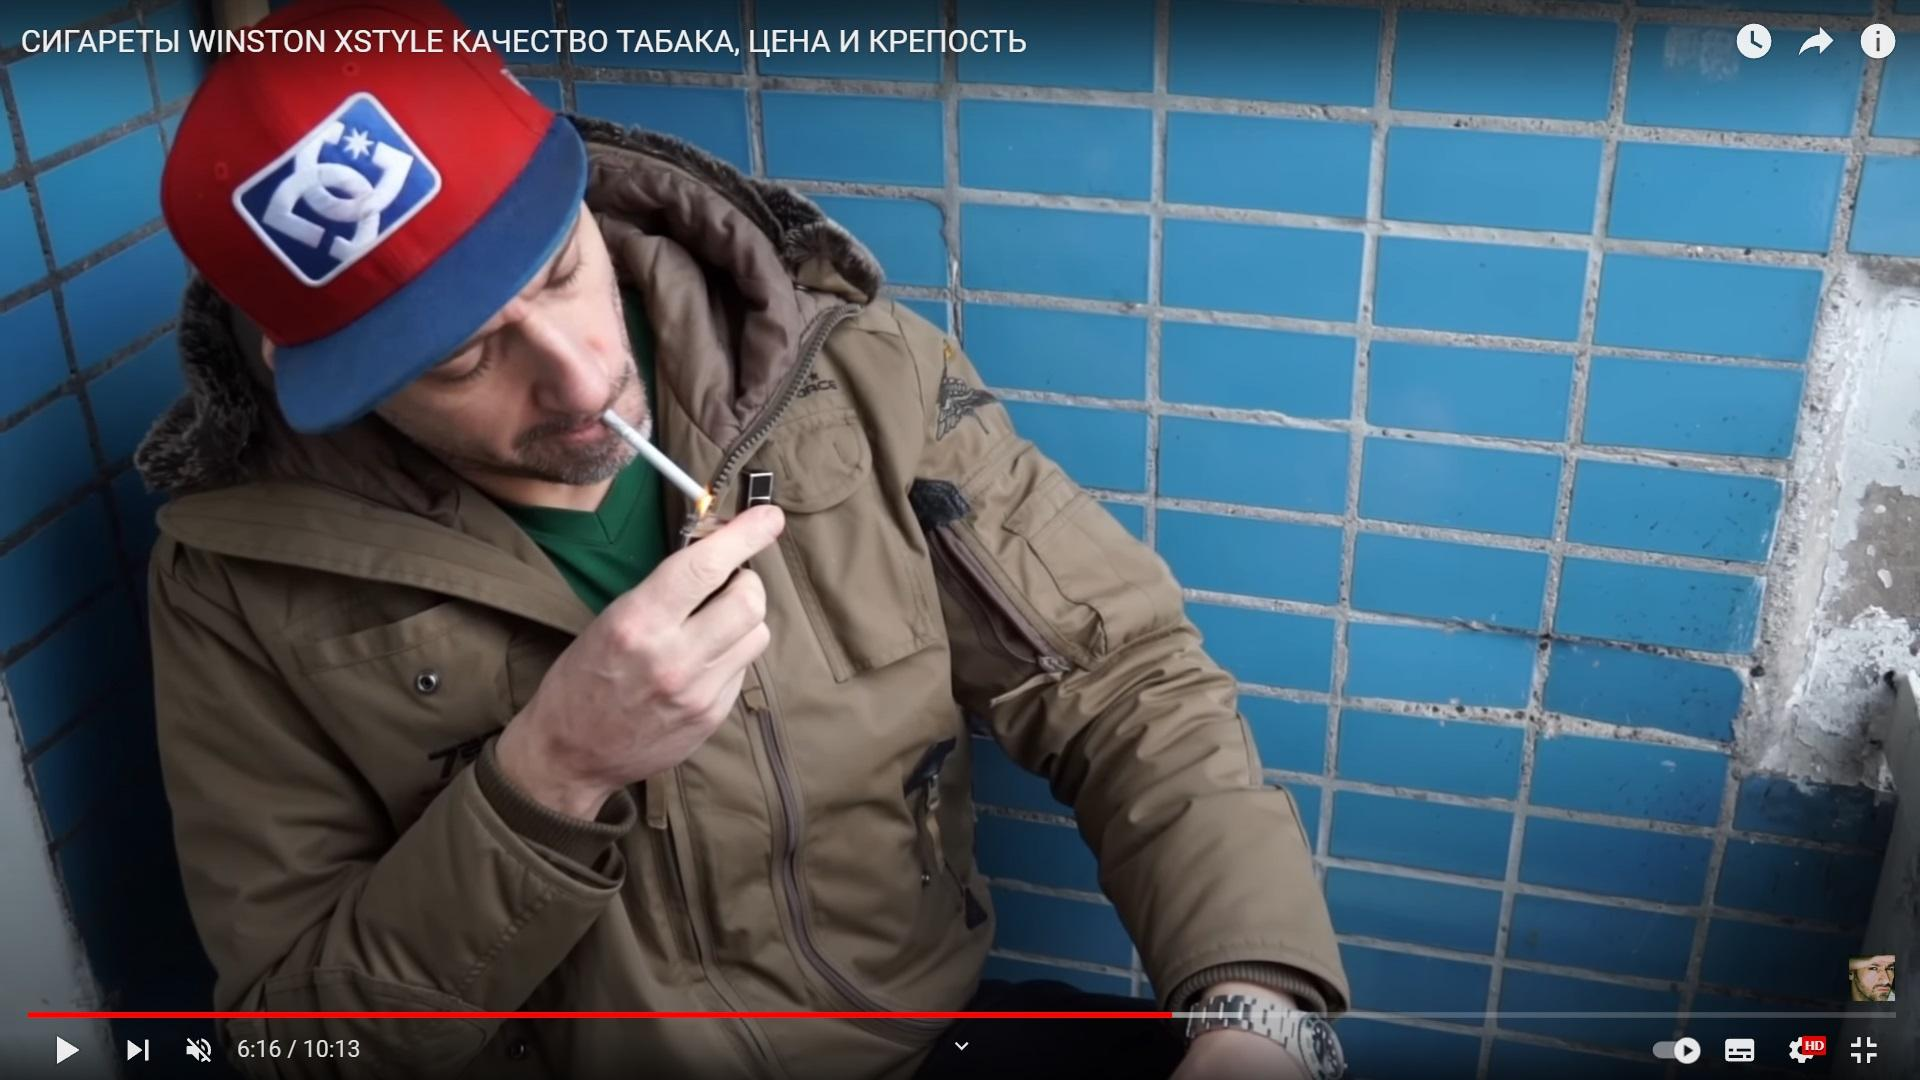cigarette: (600, 407, 712, 506)
